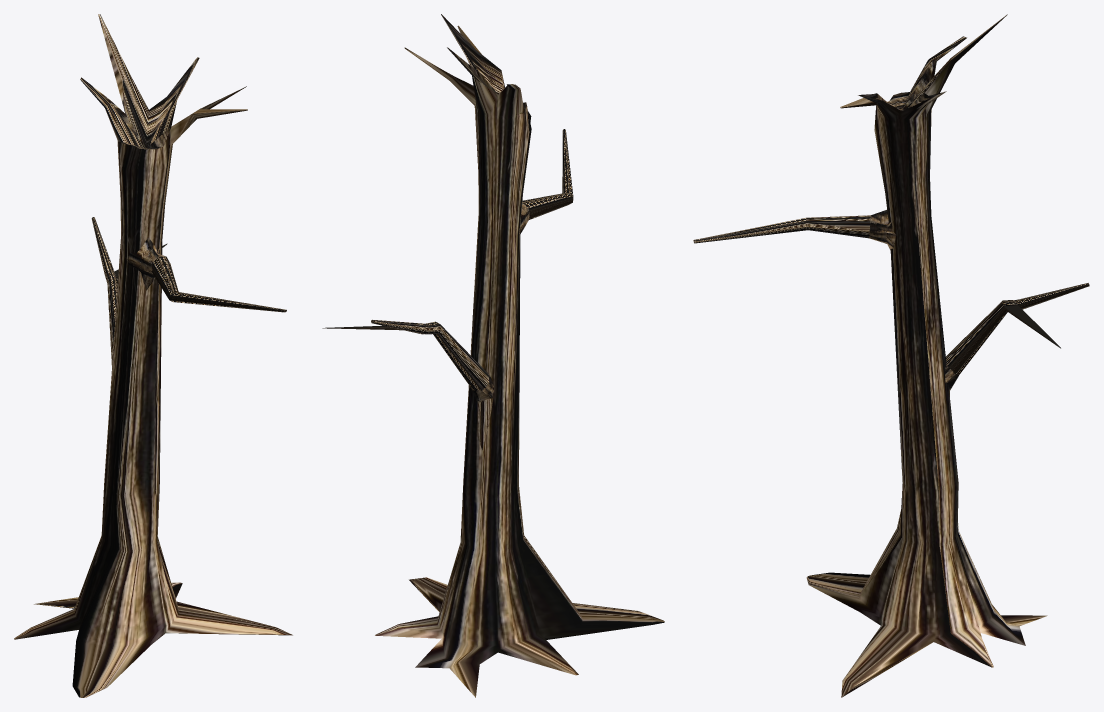
The model's file is fallenTree.fbx.
3 renders of one model, left to right at view 1: azimuth 30°, elevation 25°; view 2: azimuth 150°, elevation 25°; view 3: azimuth 270°, elevation 25°, orthographic. The views are drawn at different scales.
Parts seen in each view (by area): view 1: polySurface2; view 2: polySurface2; view 3: polySurface2.
Part boxes in pixels (x1,y1,x2,y2): polySurface2: (14, 14, 292, 697); polySurface2: (322, 14, 664, 697); polySurface2: (693, 14, 1089, 697).
Size of the model in its own units: 1182 by 2922 by 1679.
Materials: 1 (1 with a texture image).
